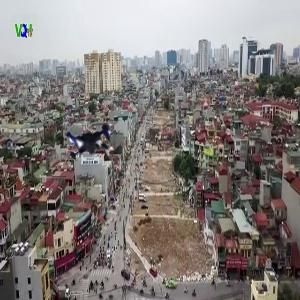drone: (43, 90, 128, 175)
